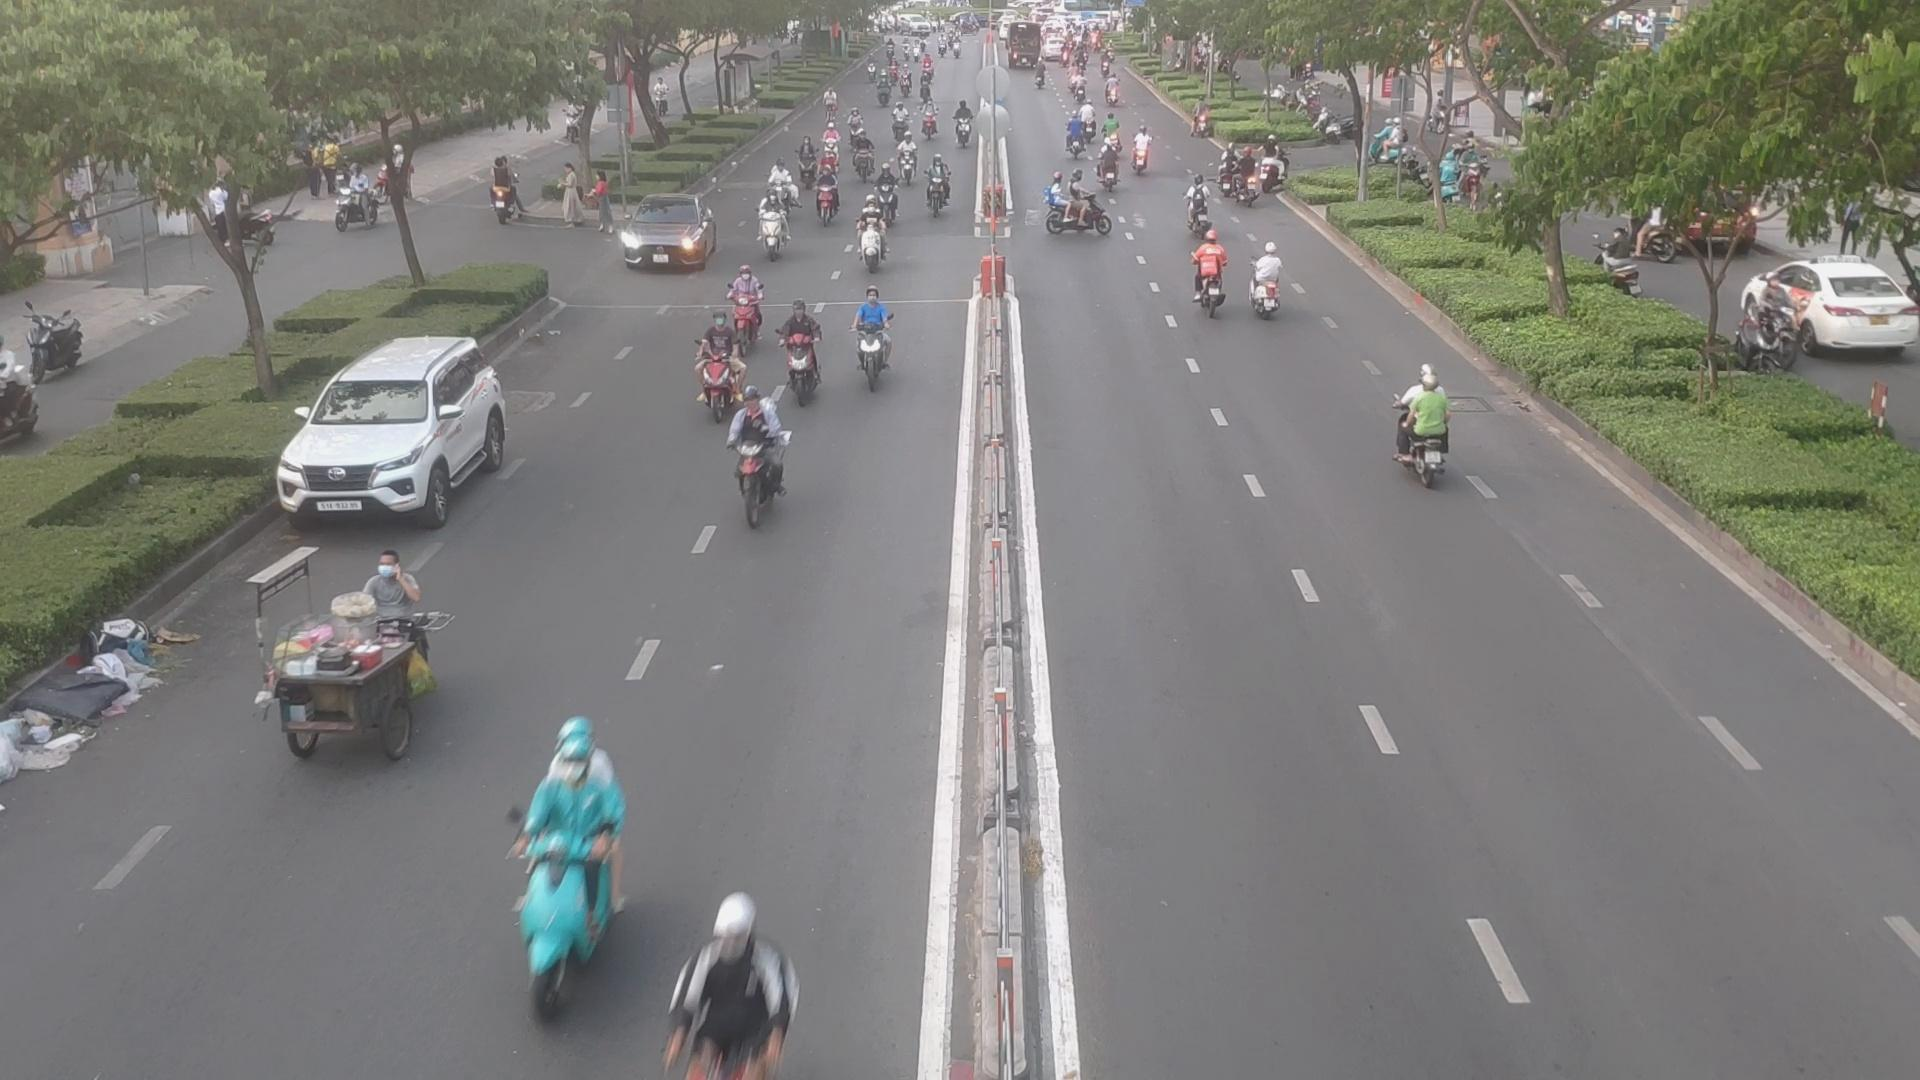car: (282, 332, 524, 524), (615, 196, 724, 276)
motorbike: (501, 735, 633, 1019), (651, 901, 796, 1075), (1393, 376, 1466, 487), (720, 400, 785, 524), (691, 313, 752, 415), (847, 286, 902, 386), (785, 298, 833, 400), (715, 268, 767, 342), (1046, 195, 1120, 243), (1185, 239, 1229, 316), (1247, 243, 1291, 316), (853, 211, 891, 270), (753, 203, 789, 261), (1187, 170, 1213, 233), (924, 160, 953, 216), (816, 174, 845, 225), (764, 164, 796, 208), (1131, 133, 1158, 178), (1093, 146, 1120, 190)
